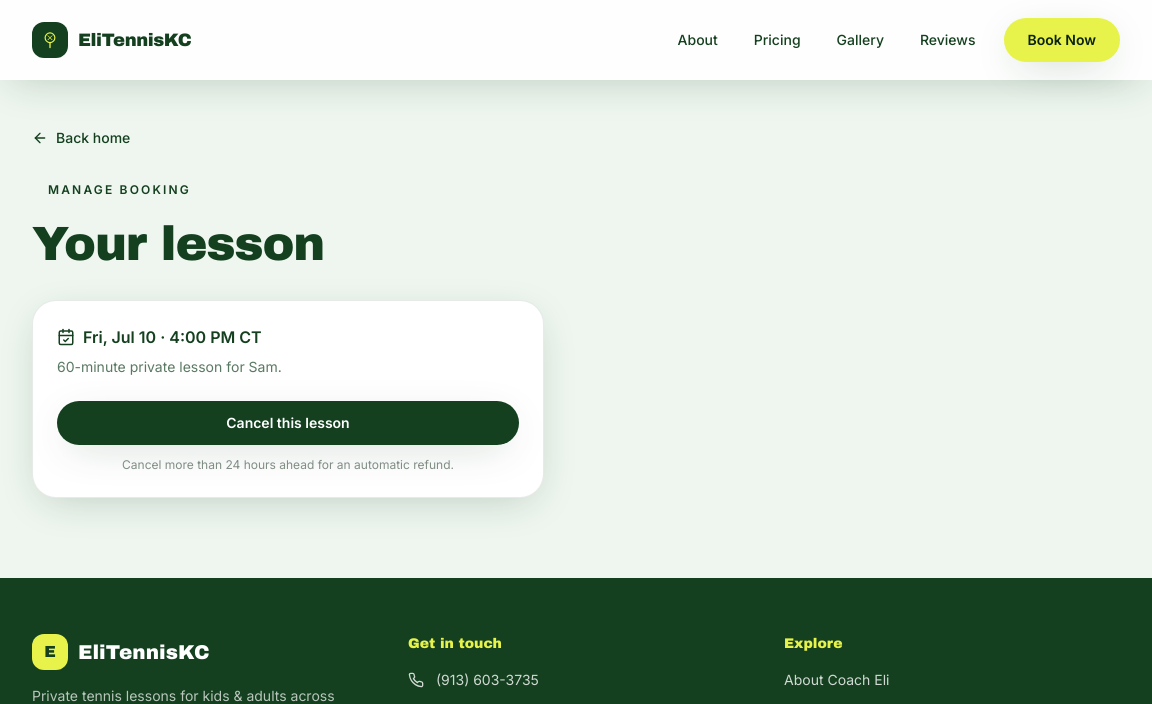
Test: ManageBooking › cancels with a refund and shows the refunded message
This screenshot has width=1152, height=704.
Click the button "Cancel this lesson". click: (288, 423)
box: [57, 401, 519, 445]
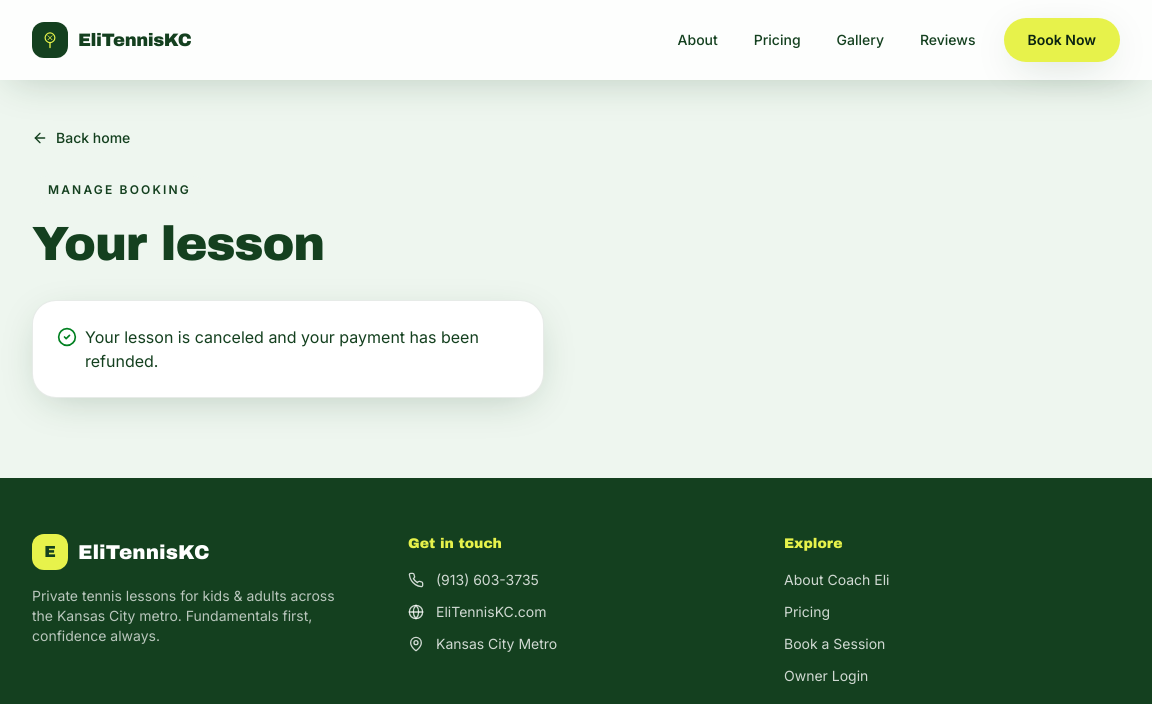
expect the text "Your lesson is canceled and your payment has been refunded." is shown: met, box [57, 325, 519, 373]
